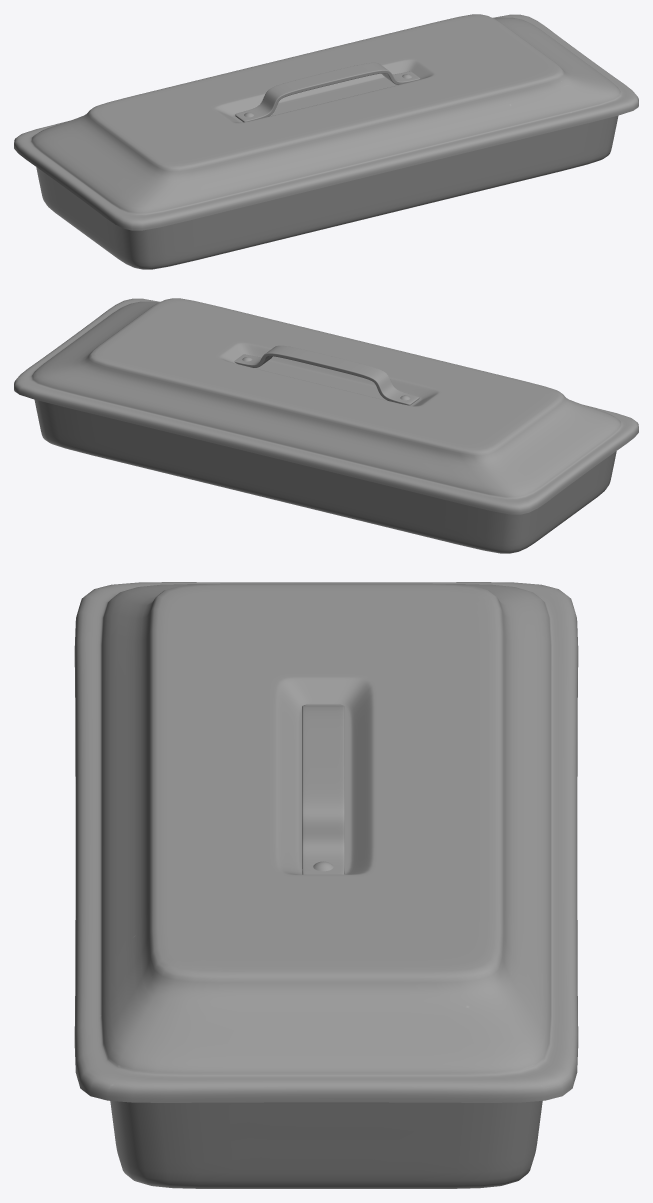
File: tray1.fbx
3 renders of one model, top to bottom at view 1: azimuth 30°, elevation 25°; view 2: azimuth 150°, elevation 25°; view 3: azimuth 270°, elevation 25°, orthographic. The views are drawn at different scales.
Parts seen in each view (by area): view 1: Medical_Trays.005, Medical_Trays.004; view 2: Medical_Trays.005, Medical_Trays.004; view 3: Medical_Trays.005, Medical_Trays.004.
Boxes of the visible parts, left/top/right/bottom form: Medical_Trays.005: left=14, top=14, right=638, bottom=230; Medical_Trays.004: left=36, top=115, right=618, bottom=269; Medical_Trays.005: left=14, top=298, right=638, bottom=514; Medical_Trays.004: left=34, top=399, right=616, bottom=553; Medical_Trays.005: left=74, top=582, right=578, bottom=1102; Medical_Trays.004: left=110, top=1101, right=542, bottom=1188.
Bounding box in the file's own units: 3575 × 675 × 1498.
2 materials, 2 textured.
